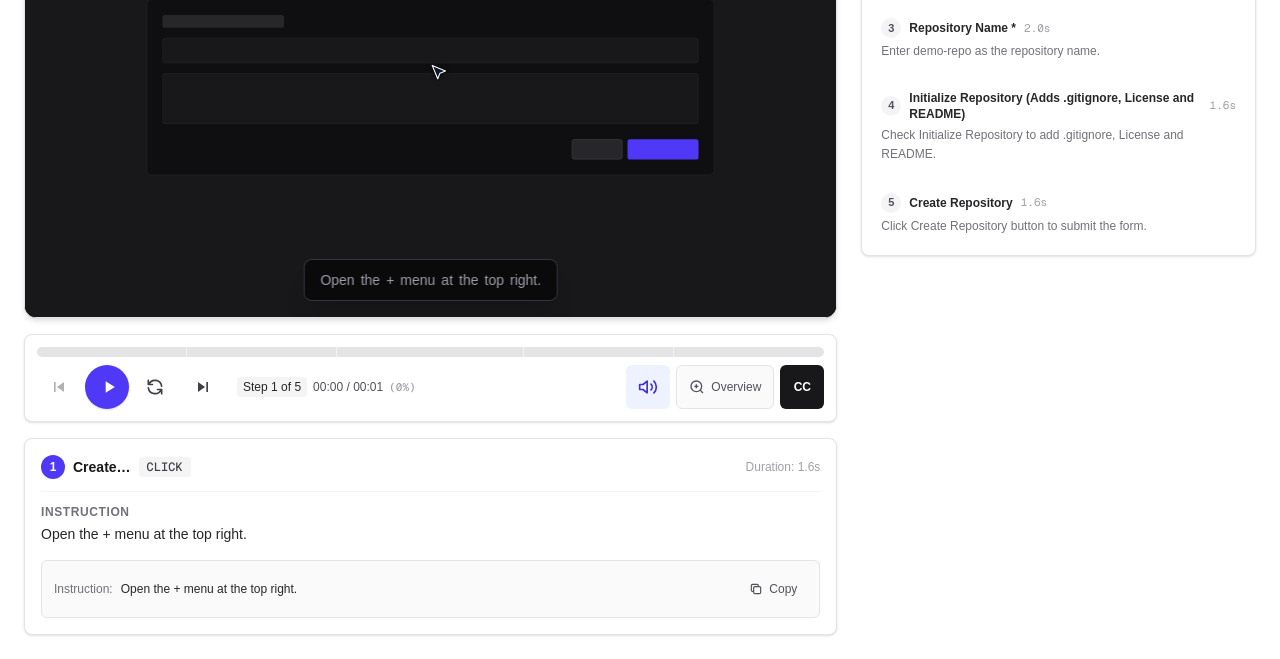
Scenario: TutorialPlayer & Accessibility Suite › toggles caption overlay visibility with Captions Toggle
(page scrolled)
Expected: the element with test id "tutorial-caption" is shown, [303,259,558,301]
Toggle Captions Off
Click the button with test id "control-toggle-captions".
click(802, 387)  # box [780,365,824,409]
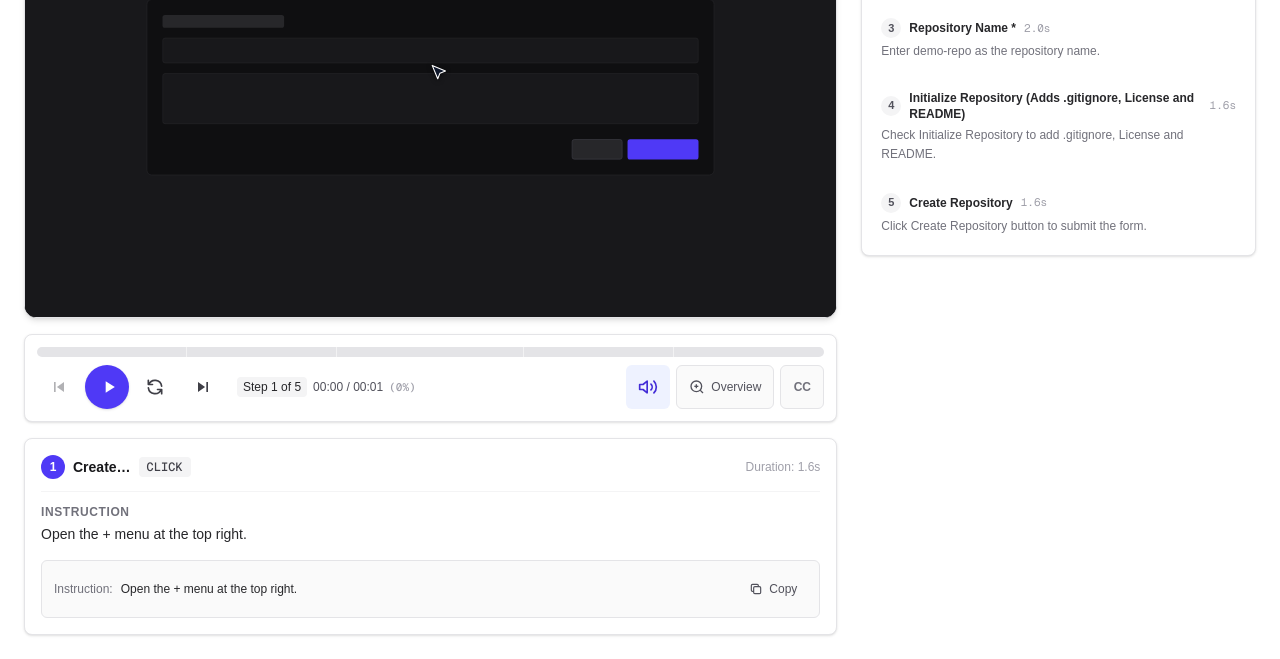
Now the element with test id "tutorial-caption" is gone
Toggle Captions On
Click the button with test id "control-toggle-captions".
click(802, 387)  # box [780,365,824,409]
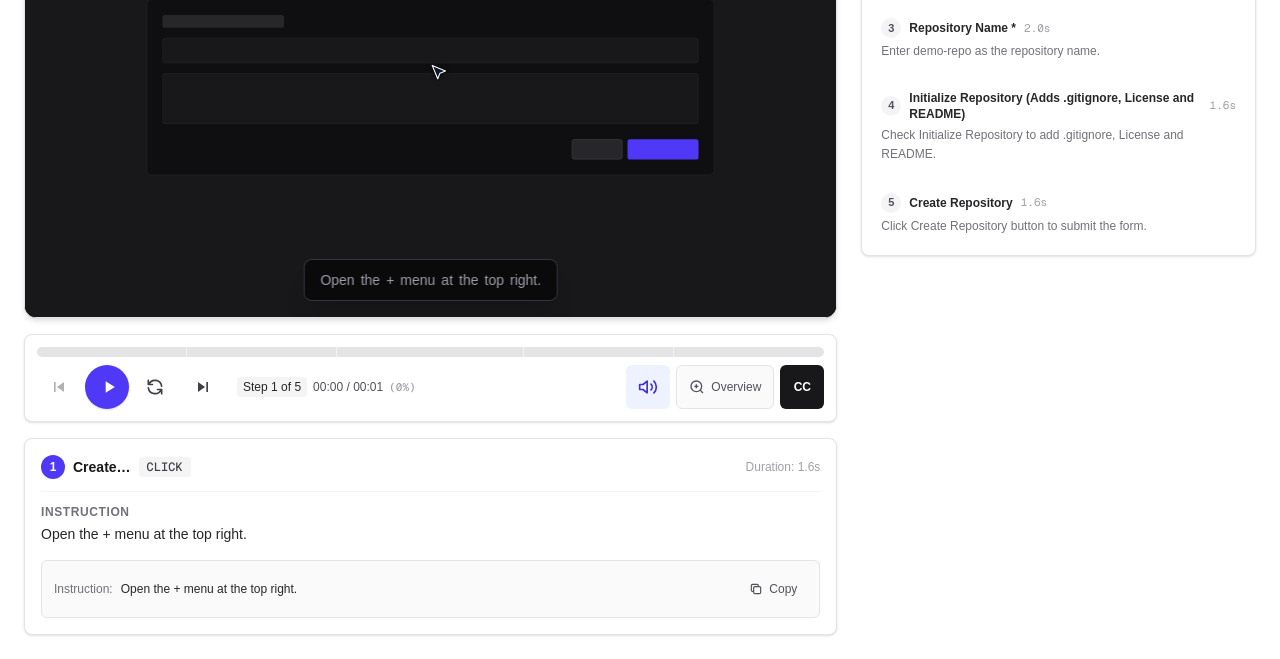
Now the element with test id "tutorial-caption" is shown, box [303,259,558,301]
